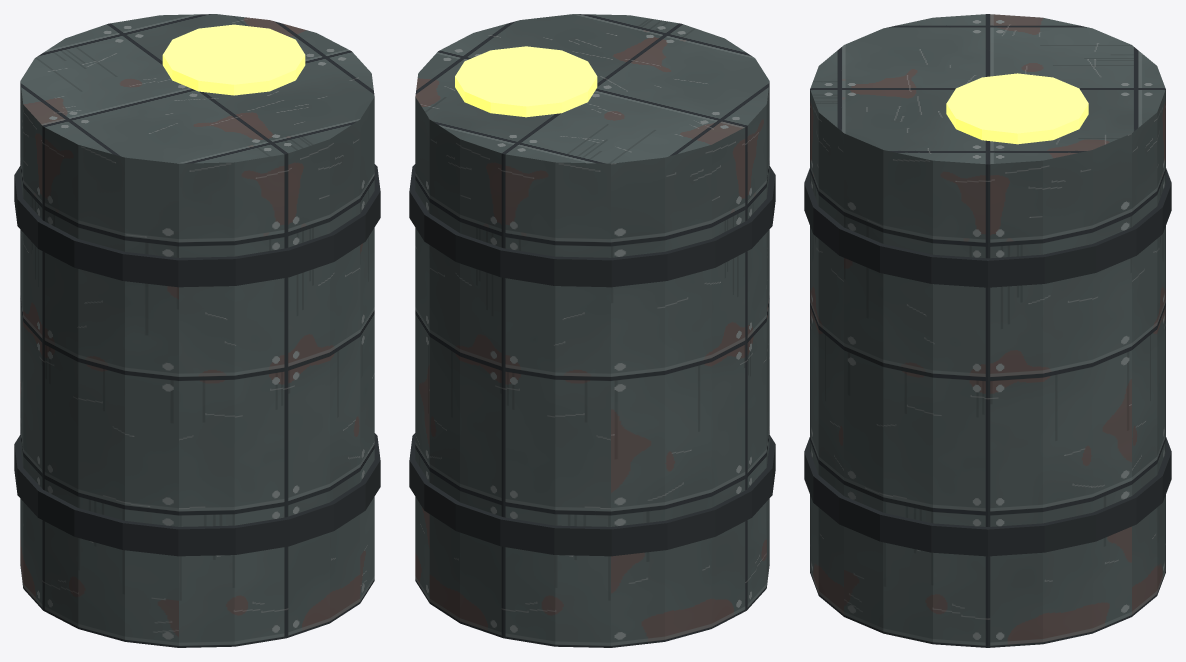
The model's file is barrel.glb.
The picture shows the model from 3 angles, left to right: view 1: azimuth 30°, elevation 25°; view 2: azimuth 150°, elevation 25°; view 3: azimuth 270°, elevation 25°; orthographic projection.
Visible parts, largest first — view 1: barrel; view 2: barrel; view 3: barrel.
Boxes of the visible parts, x1,y1,x2,y2 form: barrel: [14, 14, 380, 647]; barrel: [409, 14, 775, 647]; barrel: [804, 14, 1171, 647].
Bounding box in the file's own units: 0.62 × 0.92 × 0.62.
Materials: 3 (1 with a texture image).
